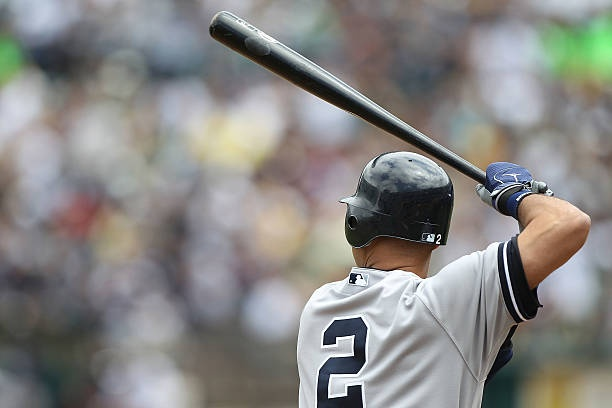bita: (211, 17, 488, 184)
